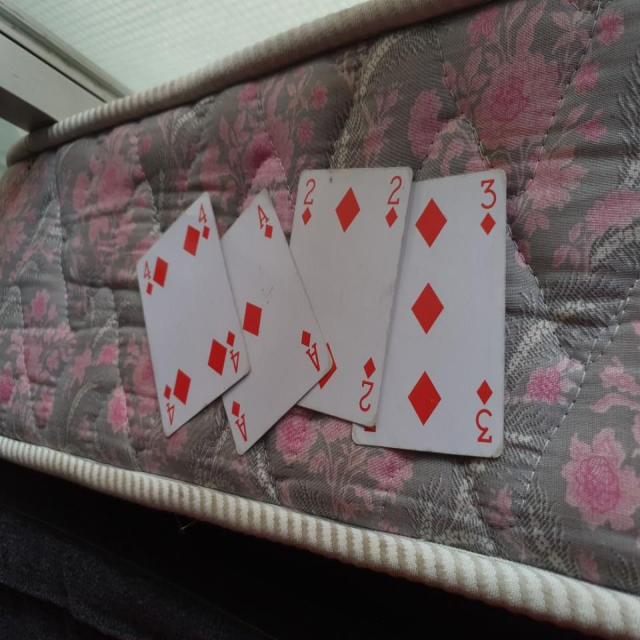2 Diamonds: (284, 165, 418, 426)
3 Diamonds: (354, 165, 511, 466)
4 Diamonds: (133, 191, 250, 440)
A Diamonds: (218, 177, 335, 468)
